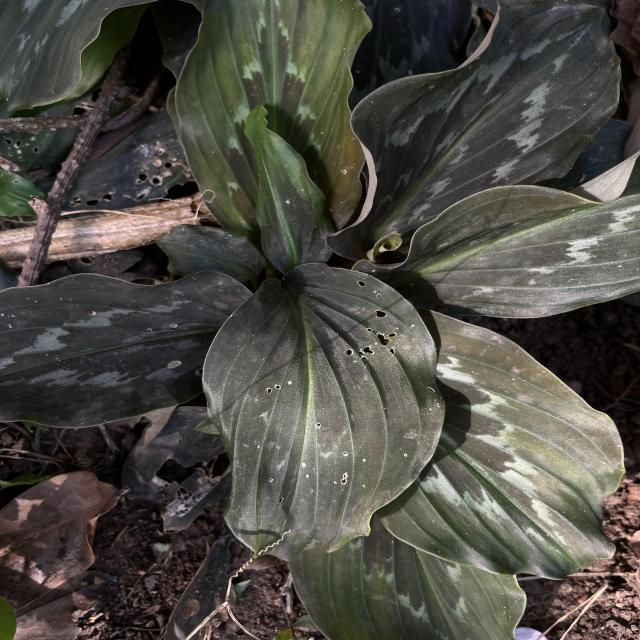Kaempferia galanga linn: (324, 0, 626, 264), (198, 258, 448, 563), (374, 306, 632, 583), (351, 148, 640, 320), (171, 0, 377, 238), (0, 266, 252, 432), (240, 100, 340, 274)
